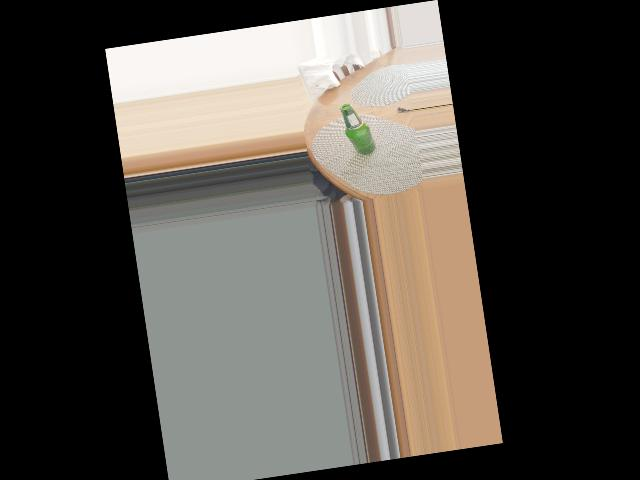beer: (341, 101, 376, 156)
